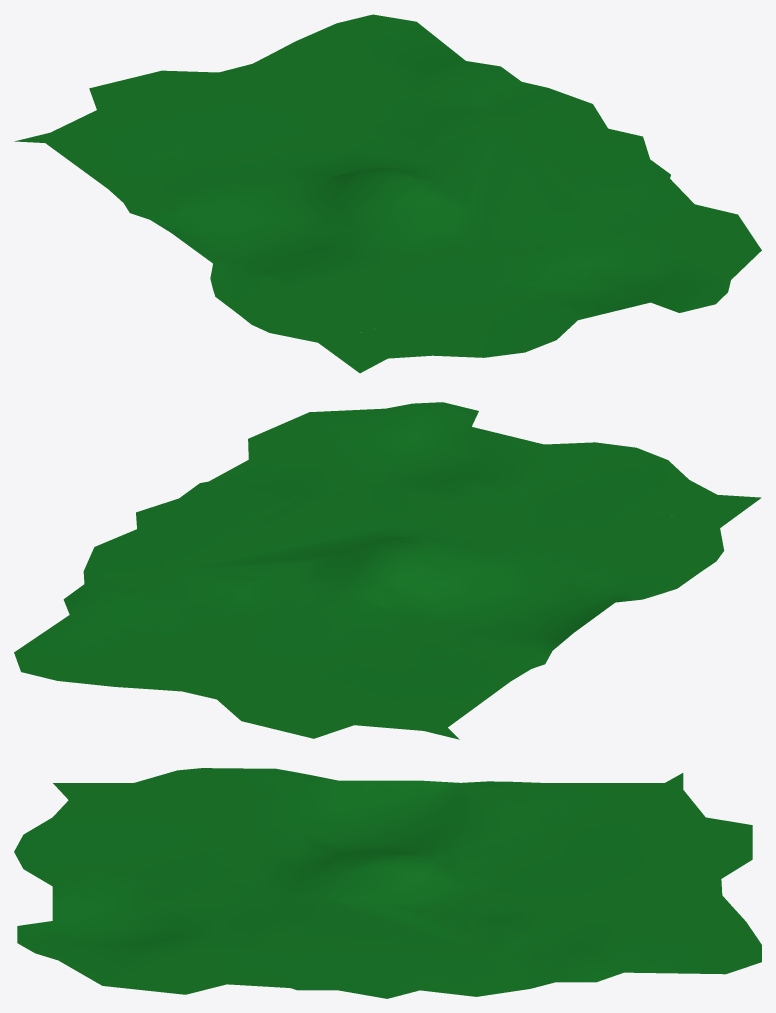
The model's file is Mapa Rio Batalla Suelo.fbx.
The picture shows the model from 3 angles, top to bottom: view 1: azimuth 30°, elevation 25°; view 2: azimuth 150°, elevation 25°; view 3: azimuth 270°, elevation 25°; orthographic projection. The views are drawn at different scales.
Parts seen in each view (by area): view 1: RioBatallaSuelo; view 2: RioBatallaSuelo; view 3: RioBatallaSuelo.
Part boxes in pixels (bbox=[...]): RioBatallaSuelo: bbox=[14, 14, 761, 373]; RioBatallaSuelo: bbox=[14, 402, 761, 739]; RioBatallaSuelo: bbox=[14, 768, 761, 998].
Bounding box in the file's own units: 25098 × 34354 × 1453.
